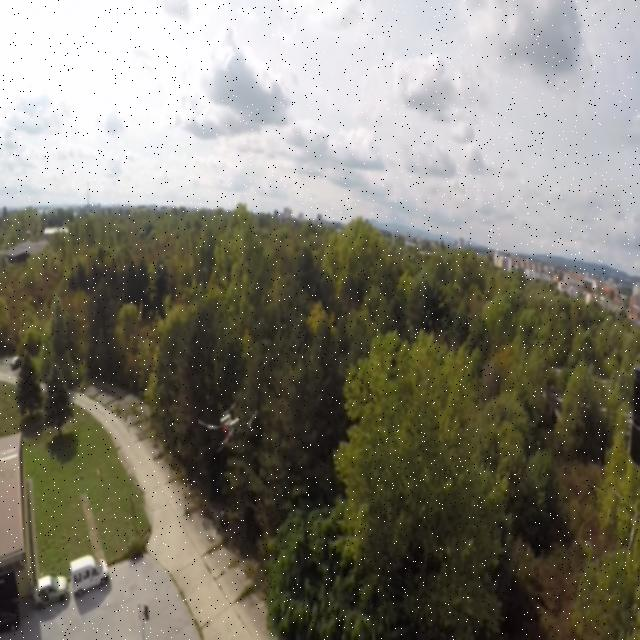UAV: (199, 398, 260, 462)
